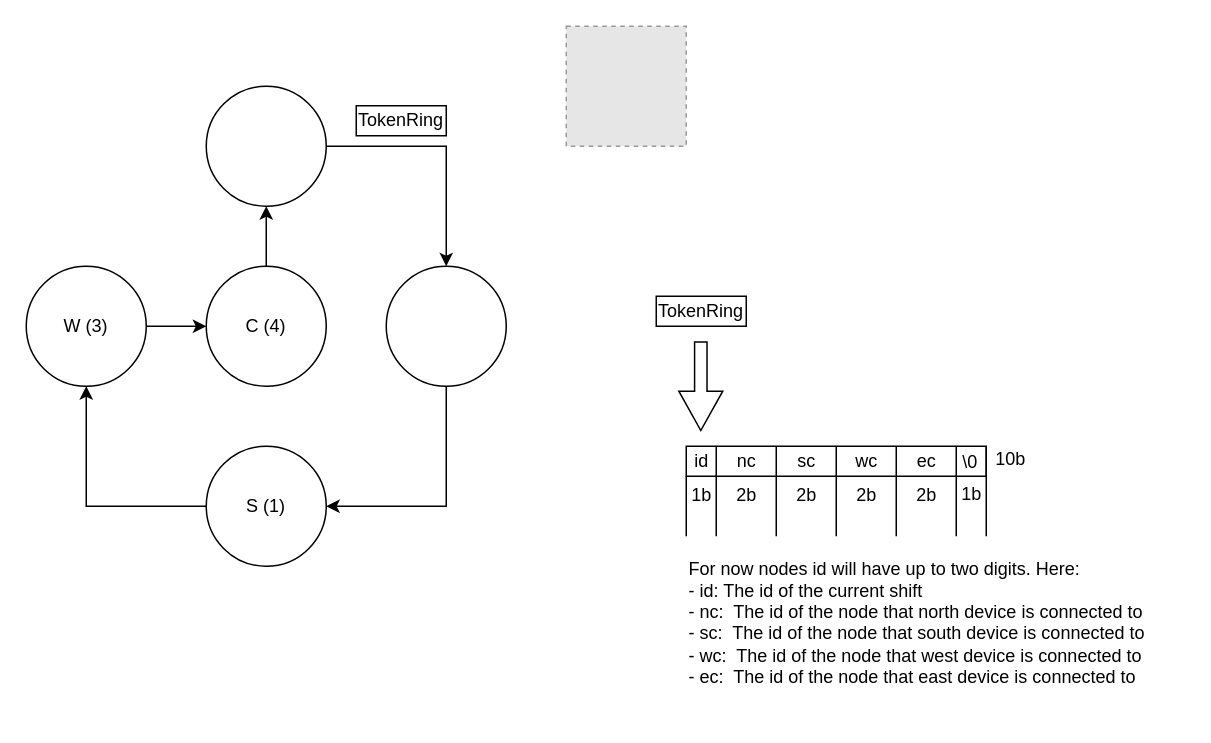
Some shapes in this 1211 by 743 pixel diagram are drawn without their labels. Grey dashed boxes stand in for pictures. Here are the shapes that lost their labels. From the top down, the box of each, then its label:
(205, 85, 326, 206): N (0)
(385, 265, 506, 386): E (2)
